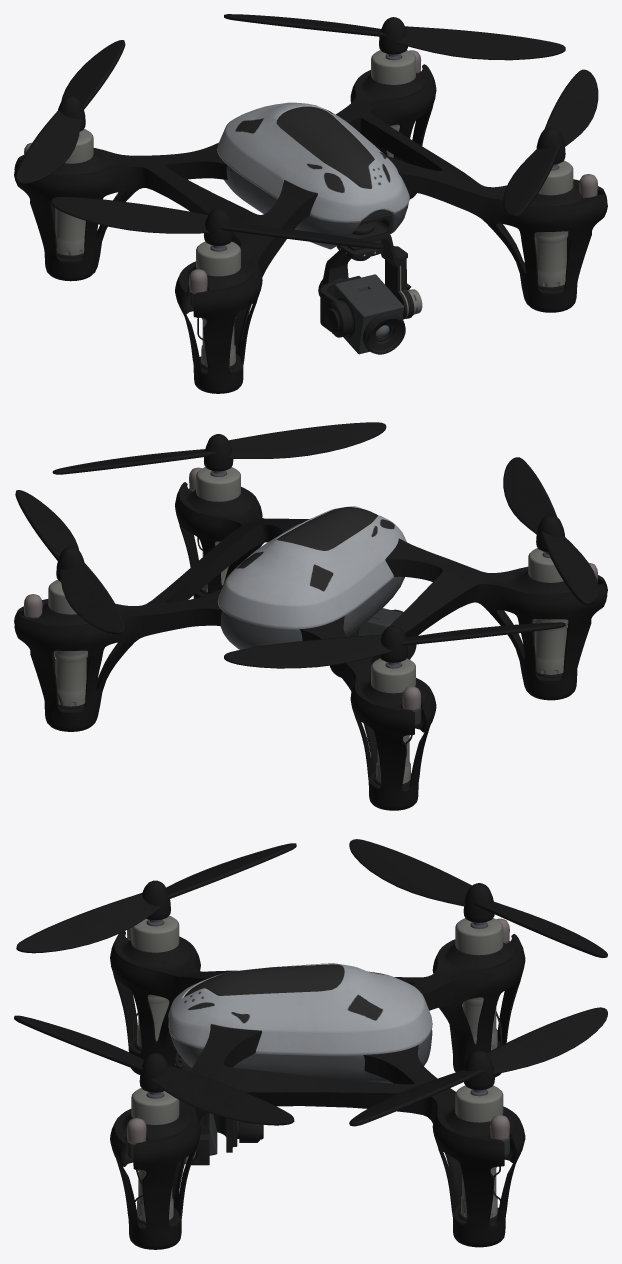
Rendered from drone.glb.
The picture shows the model from 3 angles, top to bottom: view 1: azimuth 30°, elevation 25°; view 2: azimuth 150°, elevation 25°; view 3: azimuth 270°, elevation 25°; orthographic projection. The views are drawn at different scales.
Parts seen in each view (by area): view 1: node_id30; view 2: node_id30; view 3: node_id30.
Part boxes in pixels (x1,y1,x2,y2): node_id30: (14, 14, 607, 393); node_id30: (14, 422, 607, 810); node_id30: (14, 839, 607, 1249).
Bounding box in the file's own units: 0.512 × 0.1608 × 0.4518.
1 material, 1 textured.
